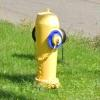a fire hydrant: (32, 8, 67, 84)
